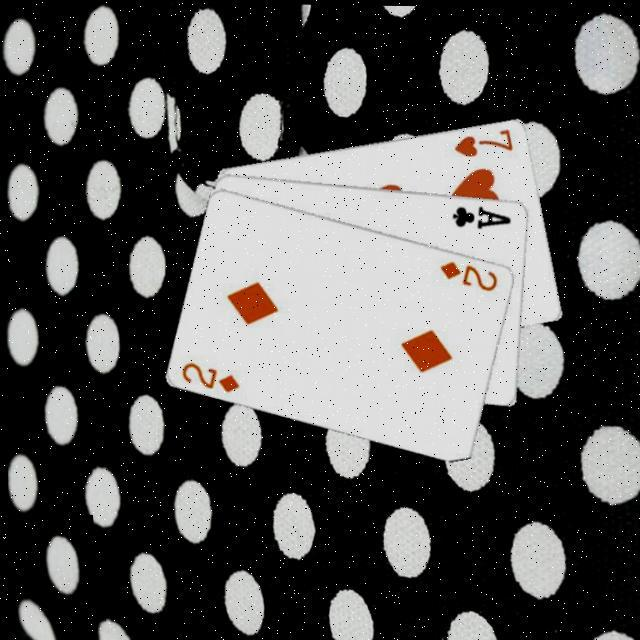2D: (176, 359, 240, 396), (434, 258, 498, 294)
7H: (449, 126, 514, 160)
AC: (448, 202, 512, 232)
